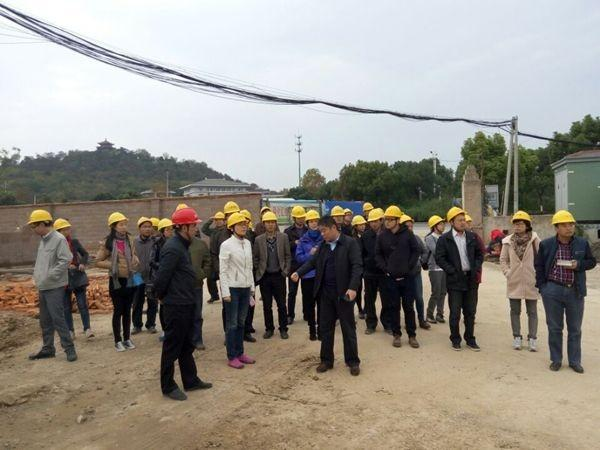Helmet: (552, 211, 576, 241), (509, 210, 533, 235)
NoVest: (220, 239, 255, 292), (445, 231, 482, 280)
